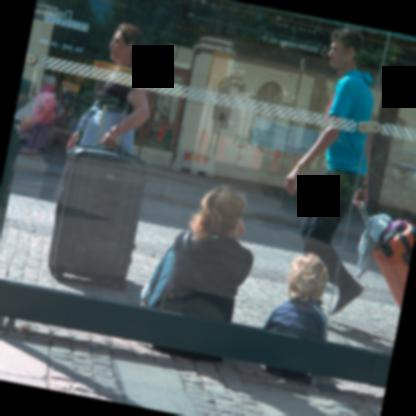handbag: (182, 229, 237, 308)
suitcase: (52, 139, 149, 292), (373, 221, 416, 311)
